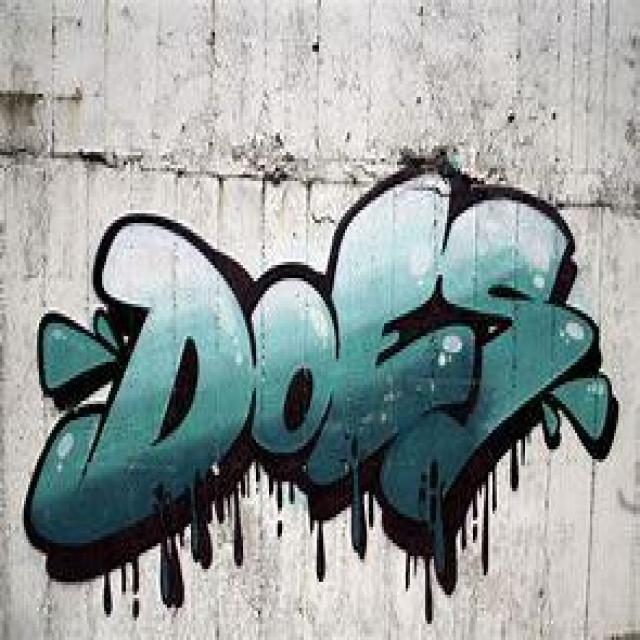nonspitting: (24, 158, 616, 612)
